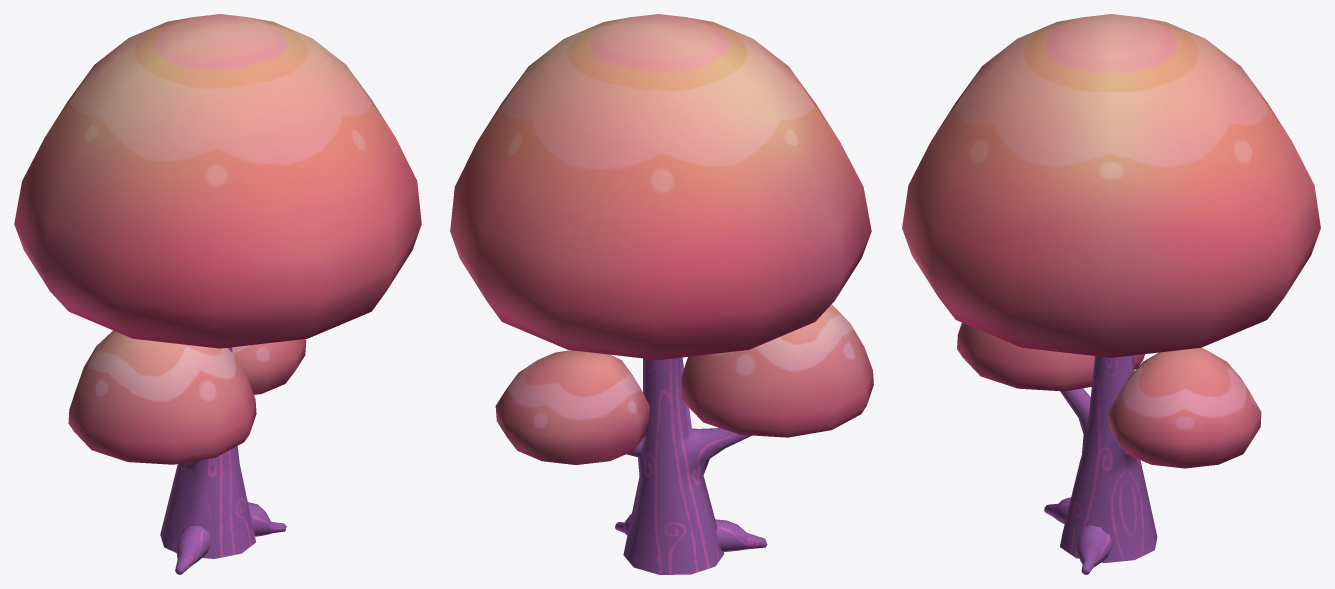
3 views of the same model, side by side, from view 1: azimuth 30°, elevation 25°; view 2: azimuth 150°, elevation 25°; view 3: azimuth 270°, elevation 25° (orthographic). The views are drawn at different scales.
Parts seen in each view (by area): view 1: wk_s_14; view 2: wk_s_14; view 3: wk_s_14.
Part boxes in pixels (x1=…): wk_s_14: x1=14, y1=14, x2=421, y2=574; wk_s_14: x1=450, y1=14, x2=873, y2=574; wk_s_14: x1=902, y1=14, x2=1320, y2=574.
Bounding box in the file's own units: 4.05 × 4.05 × 5.54.
